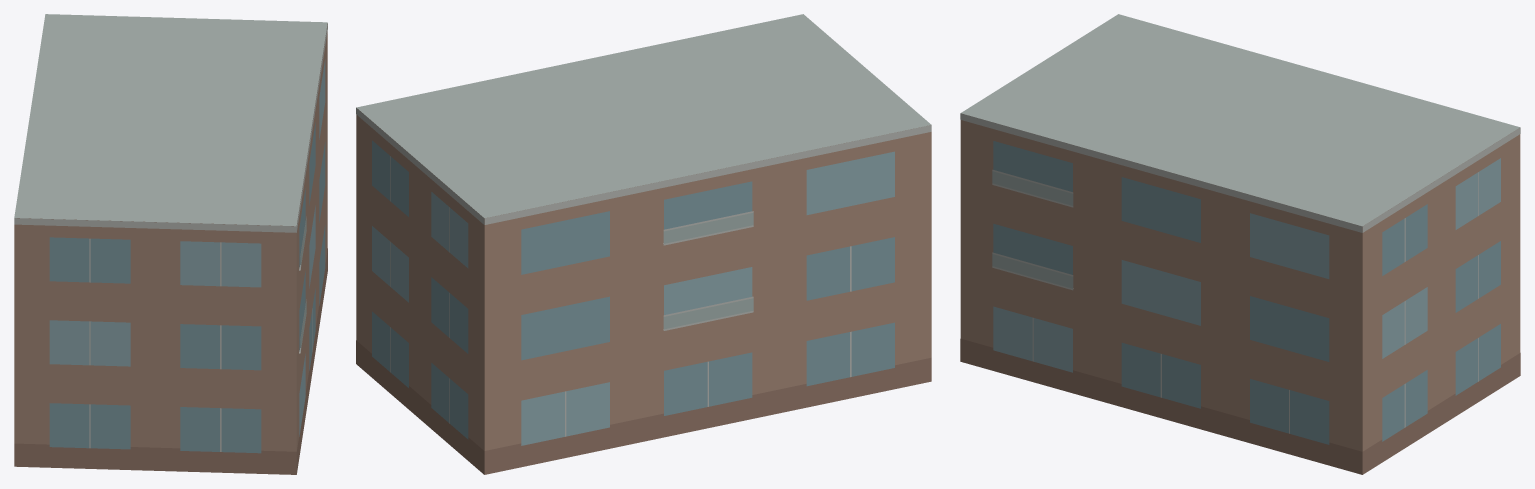
The model's file is survey-upis-32704757.glb.
3 views of the same model, side by side, from view 1: azimuth 30°, elevation 25°; view 2: azimuth 150°, elevation 25°; view 3: azimuth 270°, elevation 25° (orthographic). The views are drawn at different scales.
Parts seen in each view (by area): view 1: survey-upis-32704757.tmp; view 2: survey-upis-32704757.tmp; view 3: survey-upis-32704757.tmp.
Boxes of the visible parts, bbox=[...] form: survey-upis-32704757.tmp: bbox=[14, 14, 327, 474]; survey-upis-32704757.tmp: bbox=[356, 14, 931, 474]; survey-upis-32704757.tmp: bbox=[960, 14, 1520, 474].
Size of the model in its own units: 16.78 by 9.15 by 18.7.
